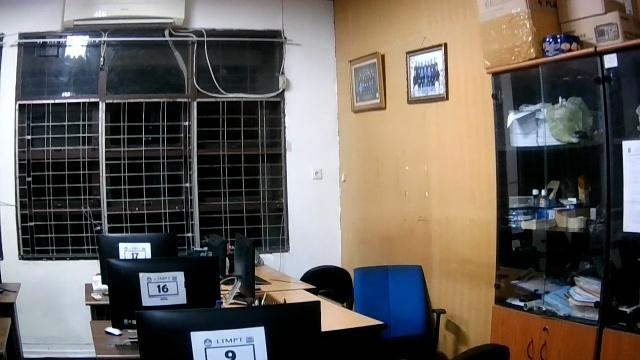AC: (61, 0, 186, 29)
Kursi: (352, 264, 445, 357)
